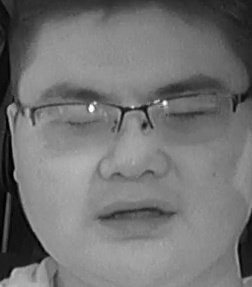blink: (164, 105, 205, 122), (66, 116, 97, 129)
glass: (32, 101, 123, 153), (144, 90, 232, 143)
mouth: (84, 195, 174, 236)
